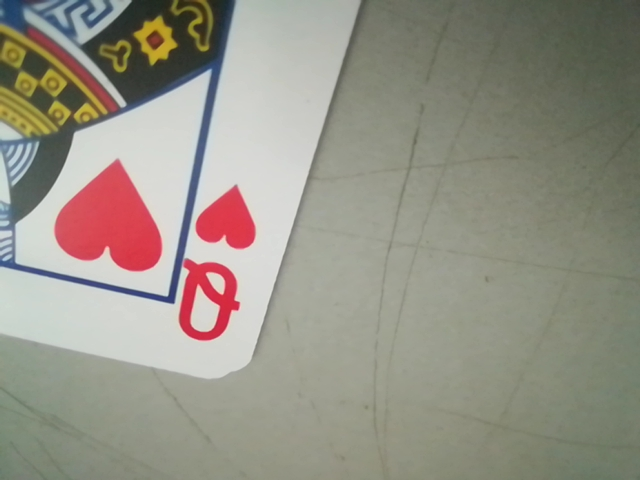hx q: (171, 184, 262, 355)
